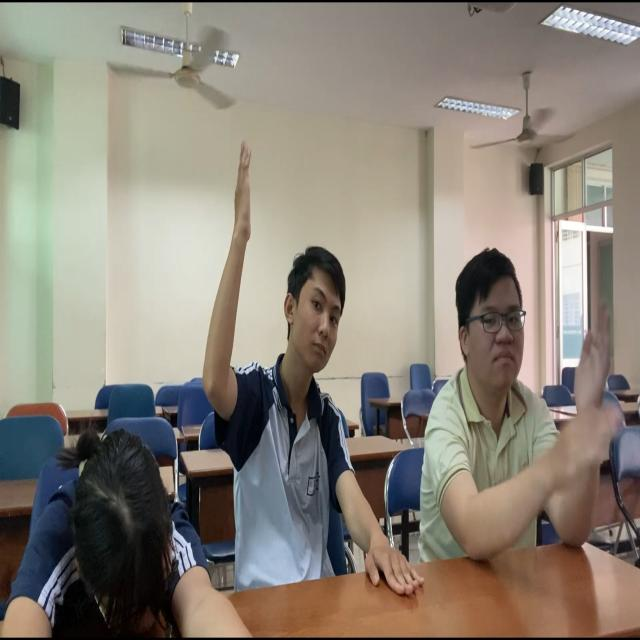raise_hand: (202, 140, 384, 595), (426, 228, 618, 578)
sleep: (1, 426, 226, 640)
